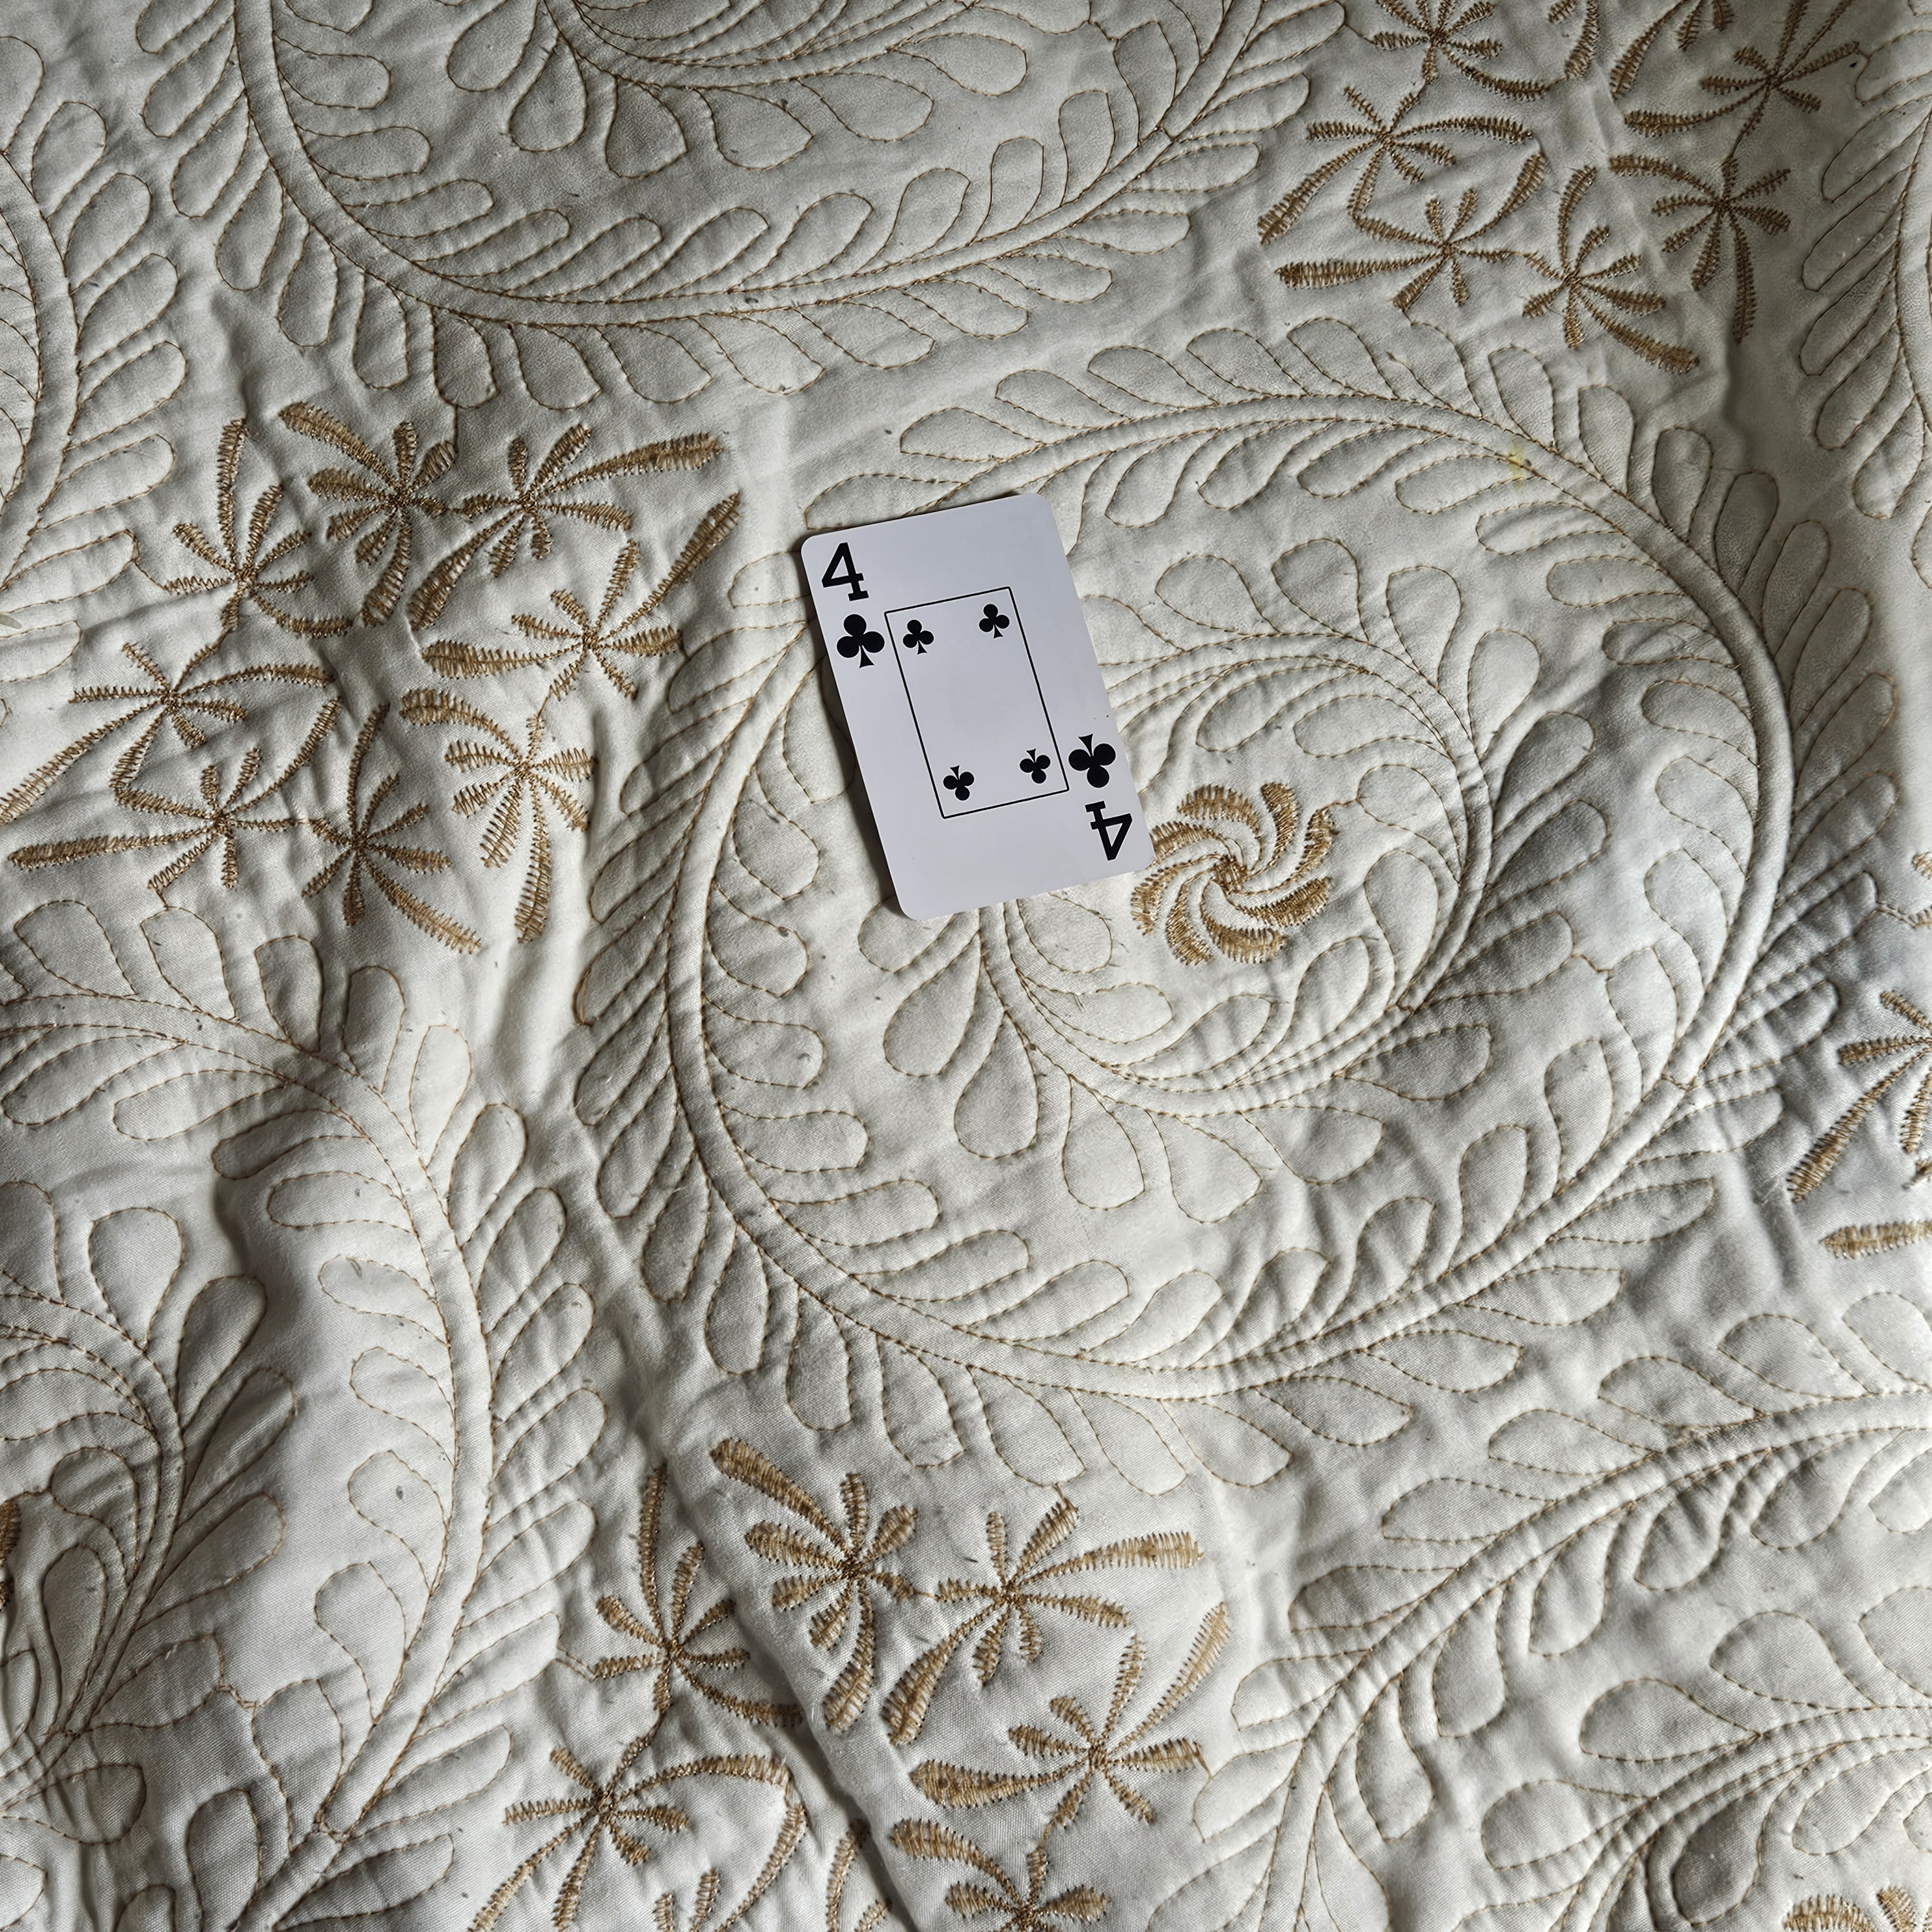4P: (1053, 715, 1155, 879), (809, 529, 892, 678)
